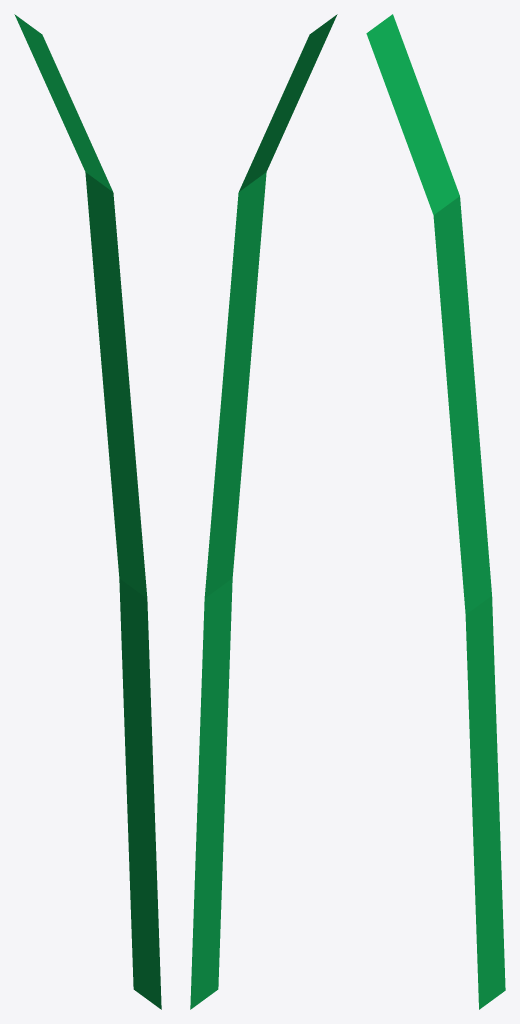
The model's file is grass.glb.
The picture shows the model from 3 angles, left to right: view 1: azimuth 30°, elevation 25°; view 2: azimuth 150°, elevation 25°; view 3: azimuth 330°, elevation 25°; orthographic projection. The views are drawn at different scales.
Parts seen in each view (by area): view 1: Plane; view 2: Plane; view 3: Plane.
Boxes of the visible parts, <box> form: Plane: <box>14,14,161,1009</box>; Plane: <box>190,14,337,1009</box>; Plane: <box>366,14,505,1009</box>.
Size of the model in its own units: 0.2444 by 1.97 by 0.0996.
